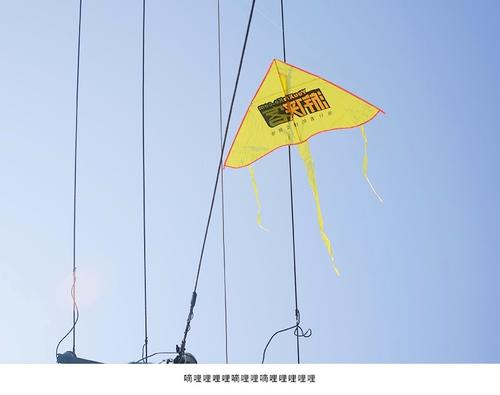kite: (224, 57, 416, 287)
